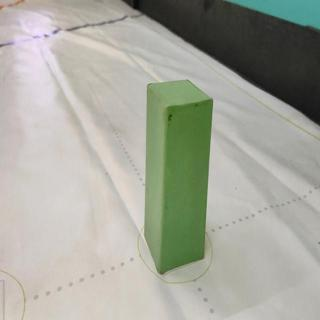greenbox: (143, 77, 216, 276)
